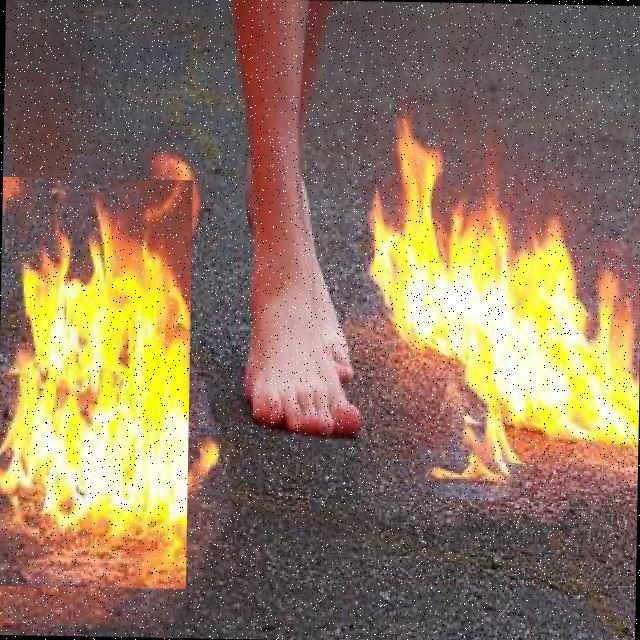fire: (370, 116, 626, 464), (0, 176, 192, 588)
